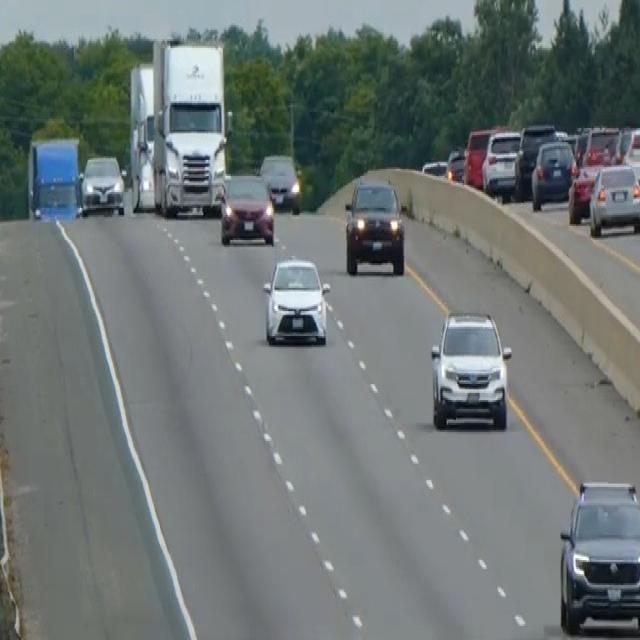car: (558, 476, 639, 634), (261, 252, 331, 346), (218, 171, 275, 245), (588, 160, 639, 236), (530, 137, 577, 210), (514, 121, 556, 197), (79, 153, 125, 215), (481, 128, 521, 199), (259, 151, 301, 213), (462, 126, 494, 187), (445, 146, 466, 183), (421, 156, 448, 178)
jeep: (429, 308, 512, 432), (343, 176, 405, 276)
lorry: (126, 37, 229, 217), (26, 134, 84, 222)
